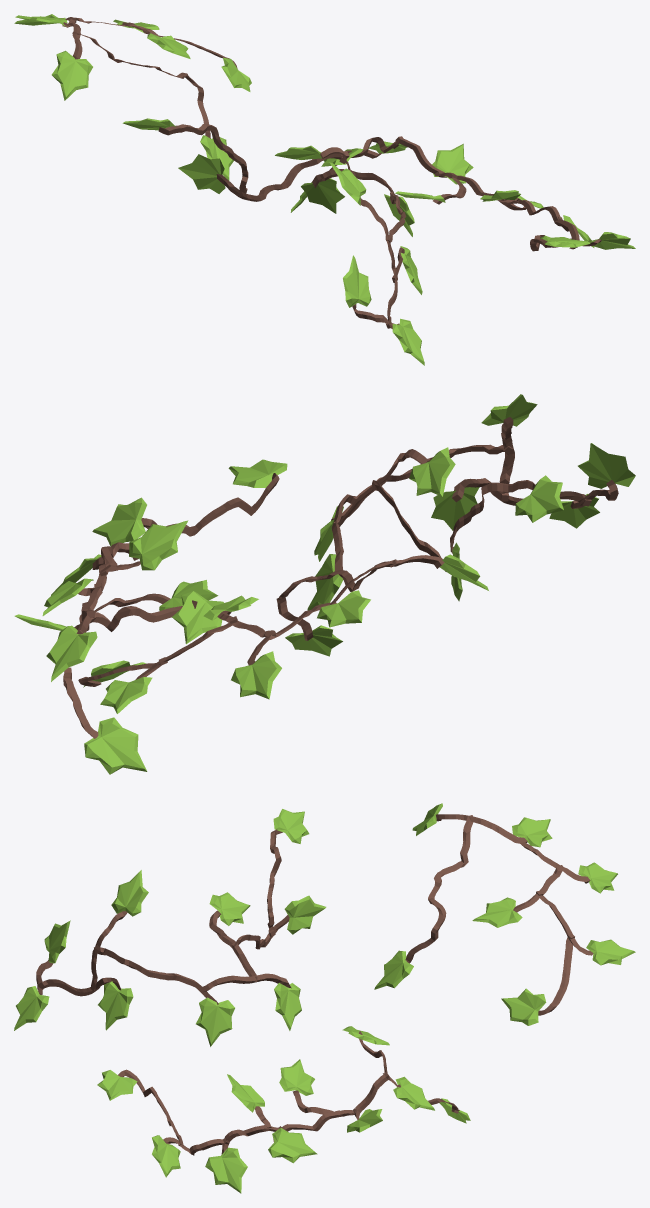
The model's file is IvyClump.obj.
3 views of the same model, one above another, from view 1: azimuth 30°, elevation 25°; view 2: azimuth 150°, elevation 25°; view 3: azimuth 270°, elevation 25° (orthographic). The views are drawn at different scales.
Bounding box in the file's own units: 1.29 × 0.6213 × 1.69.
